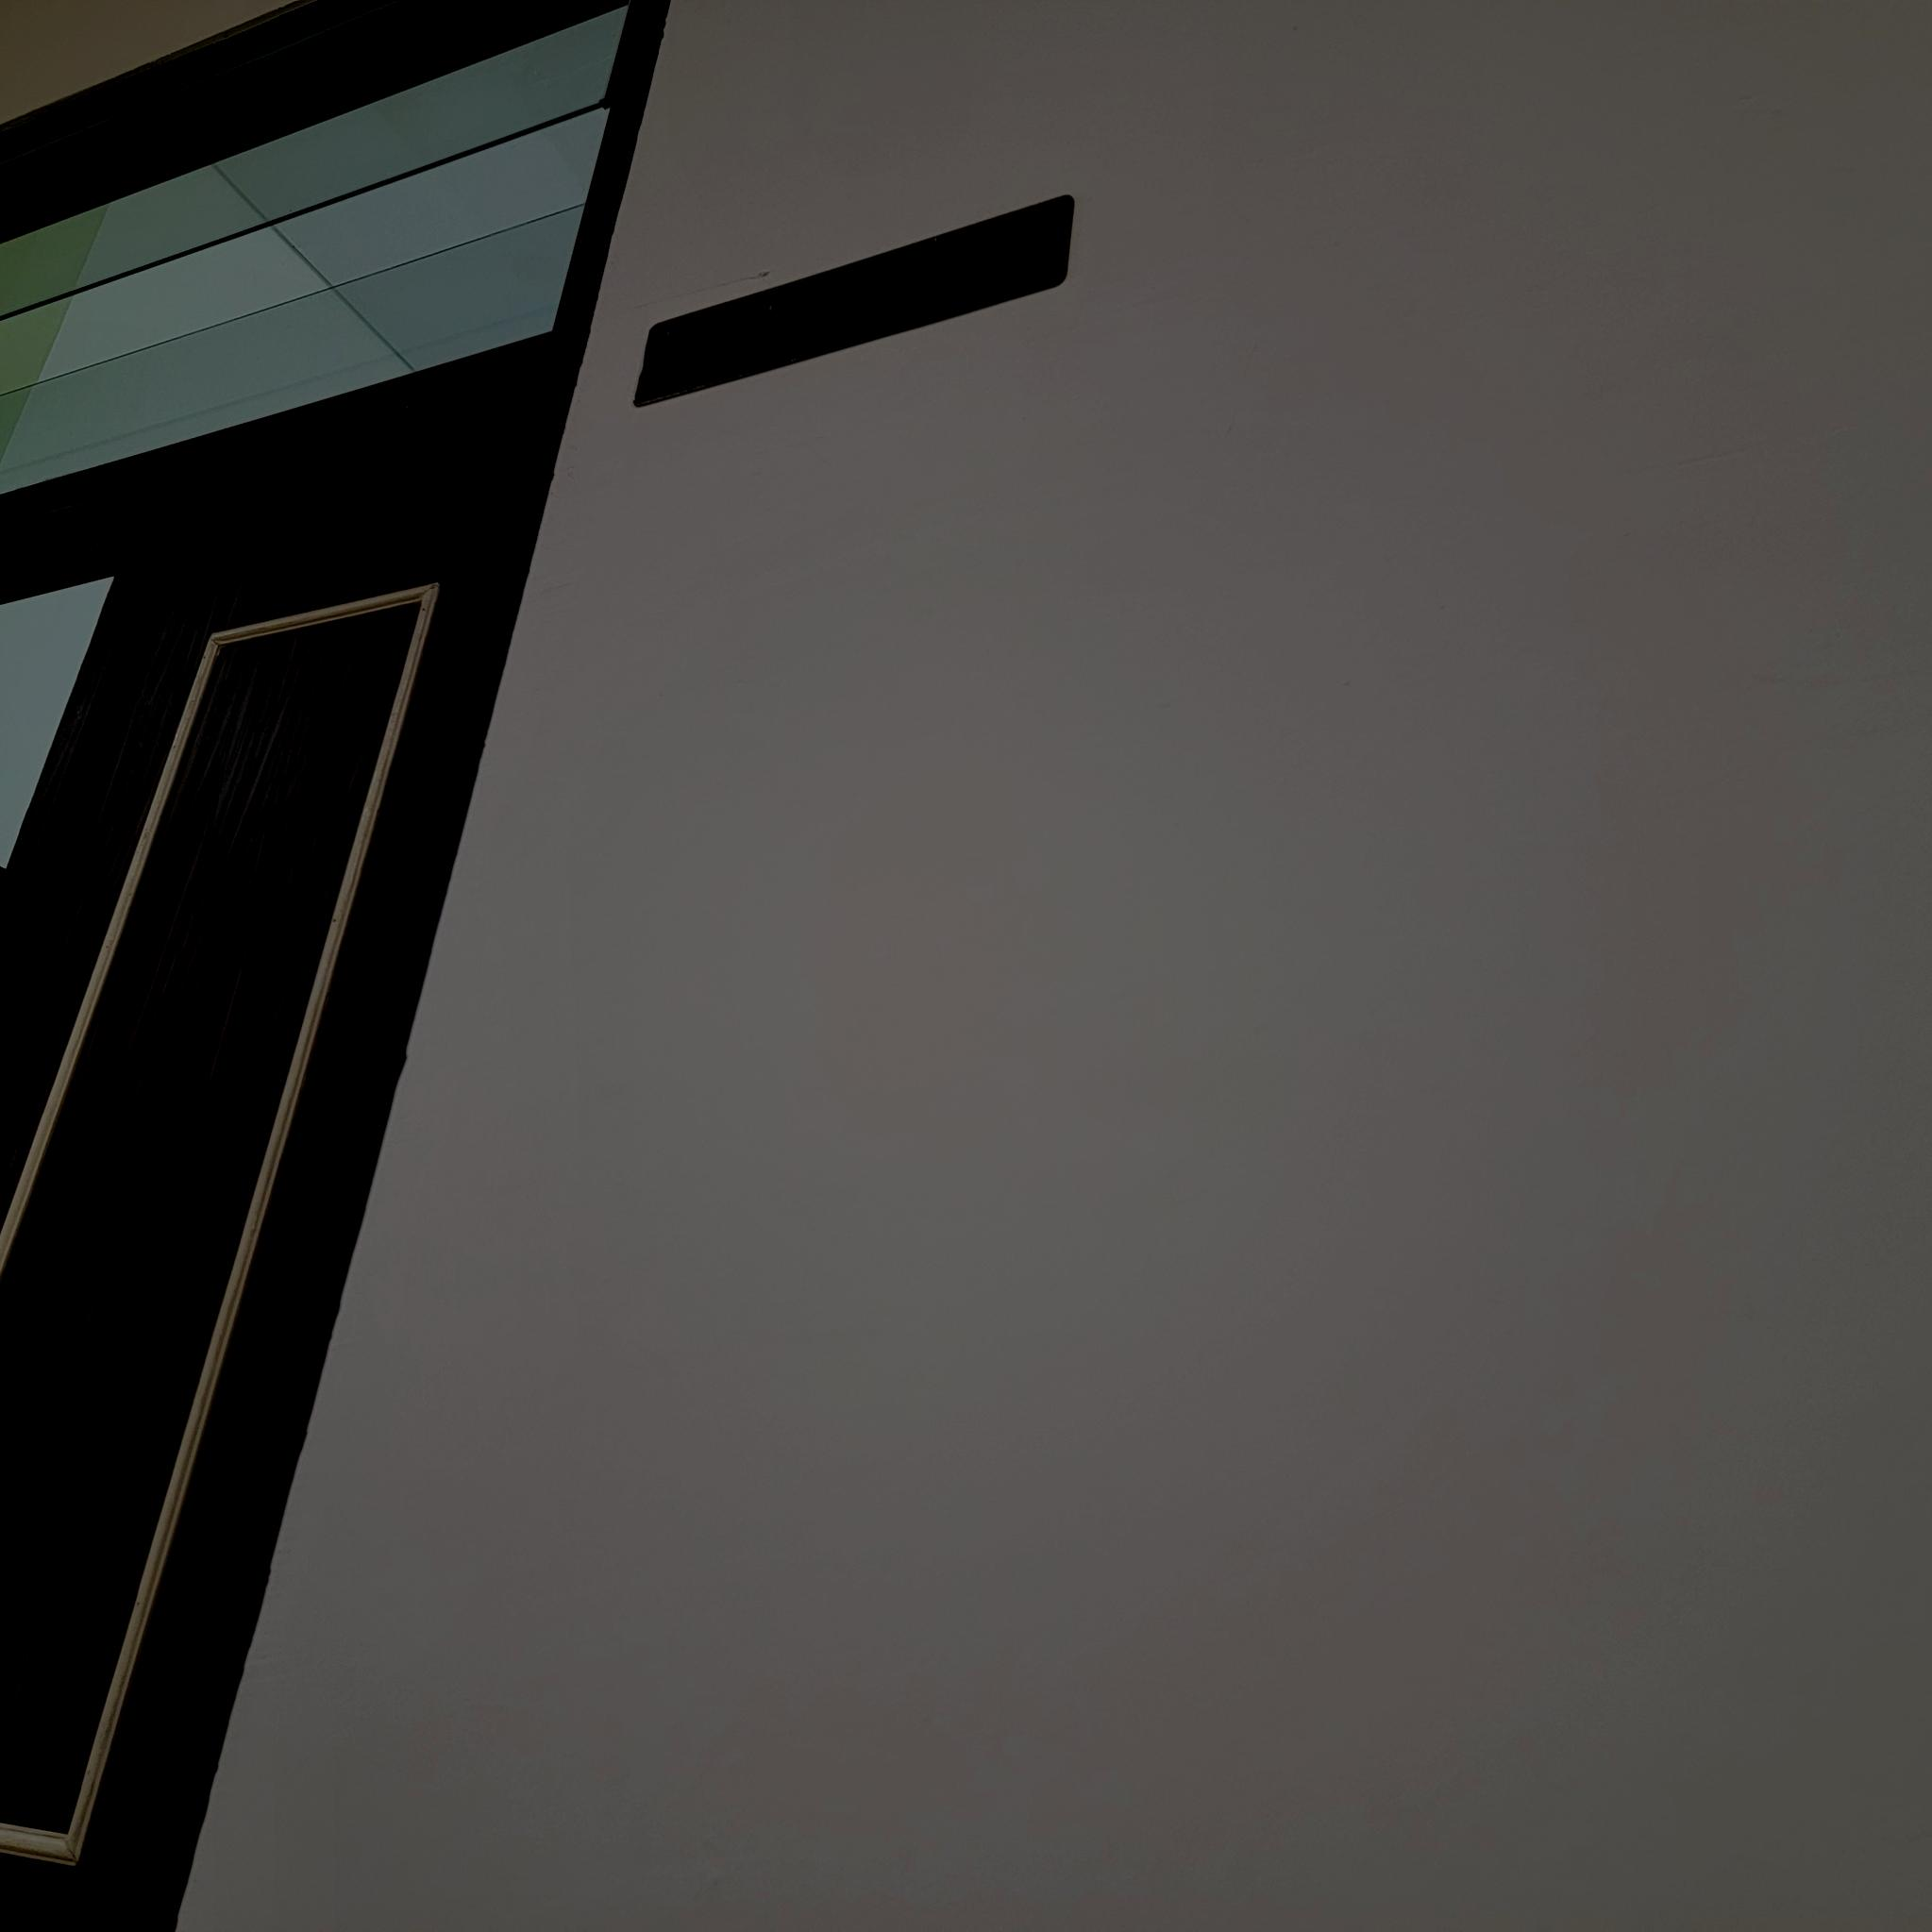plate: (632, 193, 1077, 409)
